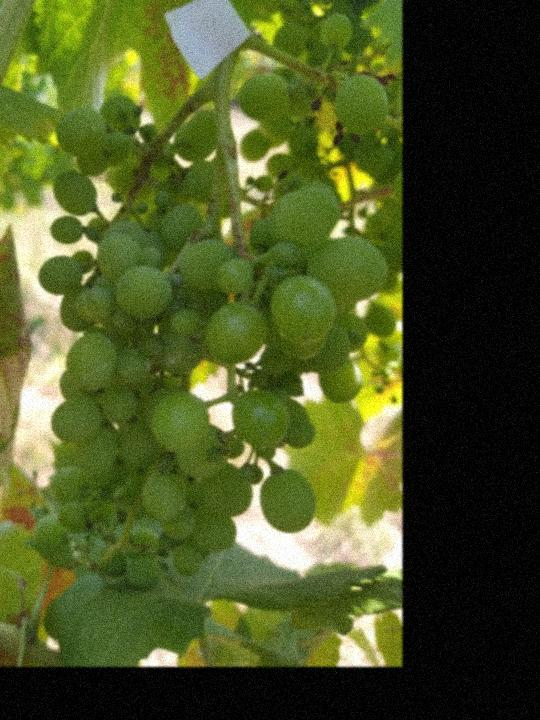grape: (26, 9, 388, 594)
